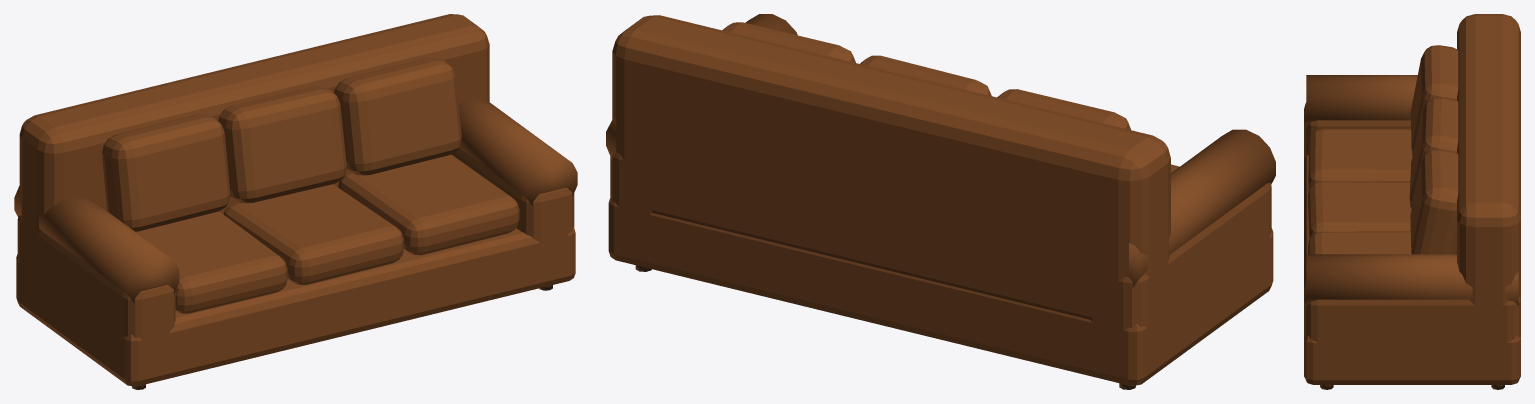
The model's file is SofaMarromListrado.fbx.
3 views of the same model, side by side, from view 1: azimuth 30°, elevation 25°; view 2: azimuth 150°, elevation 25°; view 3: azimuth 270°, elevation 25° (orthographic). The views are drawn at different scales.
Parts seen in each view (by area): view 1: SofaMarromListrado; view 2: SofaMarromListrado; view 3: SofaMarromListrado.
Boxes of the visible parts, <box> form: SofaMarromListrado: <box>14,14,577,389</box>; SofaMarromListrado: <box>606,14,1275,389</box>; SofaMarromListrado: <box>1304,14,1520,389</box>.
Size of the model in its own units: 2.1 by 0.9 by 0.95.
